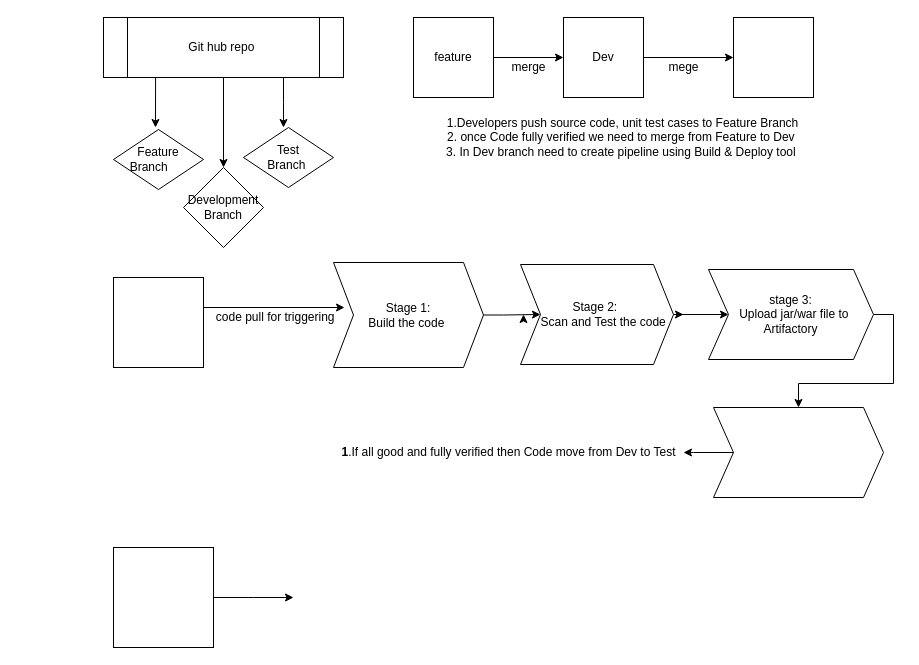
This 919x665 diagram has some shape labels left out. Here are the shapes that lost their labels. From the top down, the box of each, then its label:
(732, 16, 814, 98): Test/Pre-prod
(112, 276, 204, 368): Dev Branch
(712, 406, 884, 498): Stage 4: Deploy code
(112, 546, 214, 648): Test/Pre-prod Branch
